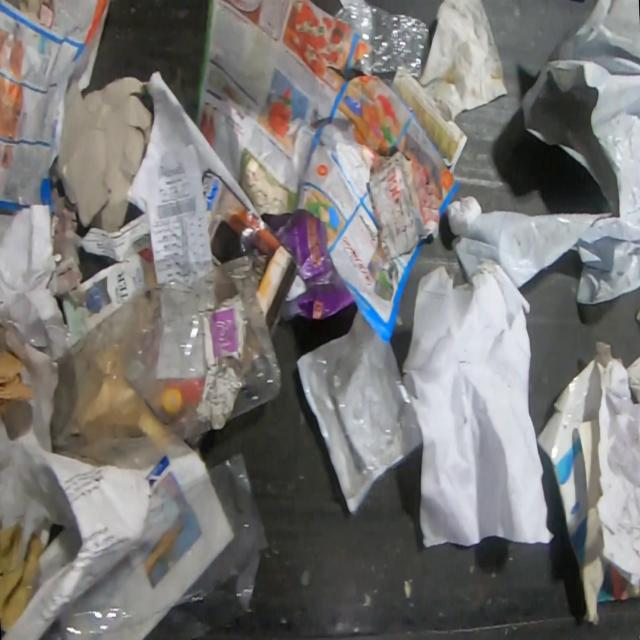cardboard: (536, 339, 640, 626), (48, 76, 152, 233), (0, 522, 44, 631), (0, 349, 36, 415)
rigid_plastic: (332, 0, 430, 80)
soft_plastic: (449, 0, 640, 305), (49, 252, 284, 473), (41, 448, 270, 640), (294, 309, 422, 516)
